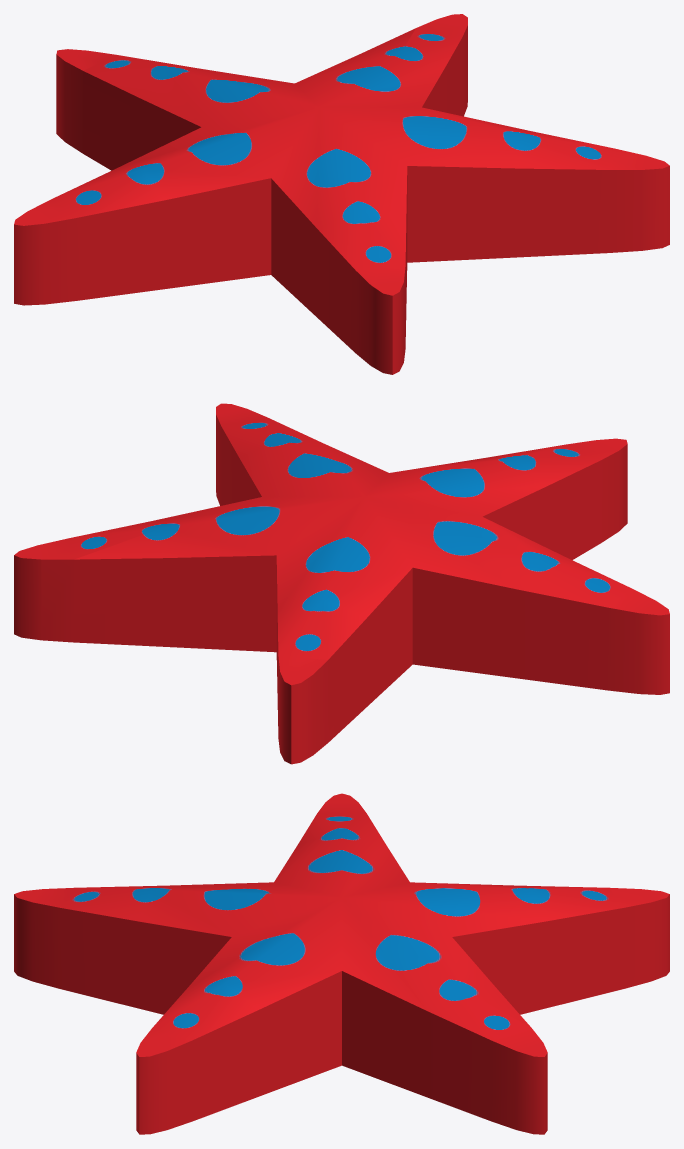
File: Starfish.FBX
The picture shows the model from 3 angles, top to bottom: view 1: azimuth 30°, elevation 25°; view 2: azimuth 150°, elevation 25°; view 3: azimuth 270°, elevation 25°; orthographic projection. The views are drawn at different scales.
Parts seen in each view (by area): view 1: Starfish; view 2: Starfish; view 3: Starfish.
Part boxes in pixels (x1,y1,x2,y2): Starfish: (14,14,669,374); Starfish: (14,403,669,764); Starfish: (14,793,669,1134).
Size of the model in its own units: 80.59 by 17.01 by 84.73.
1 material, 1 textured.
